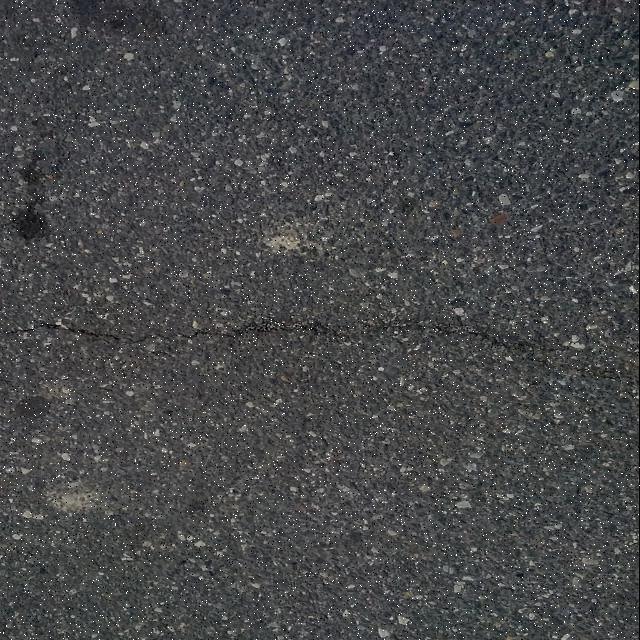Crack: (0, 319, 590, 375)
